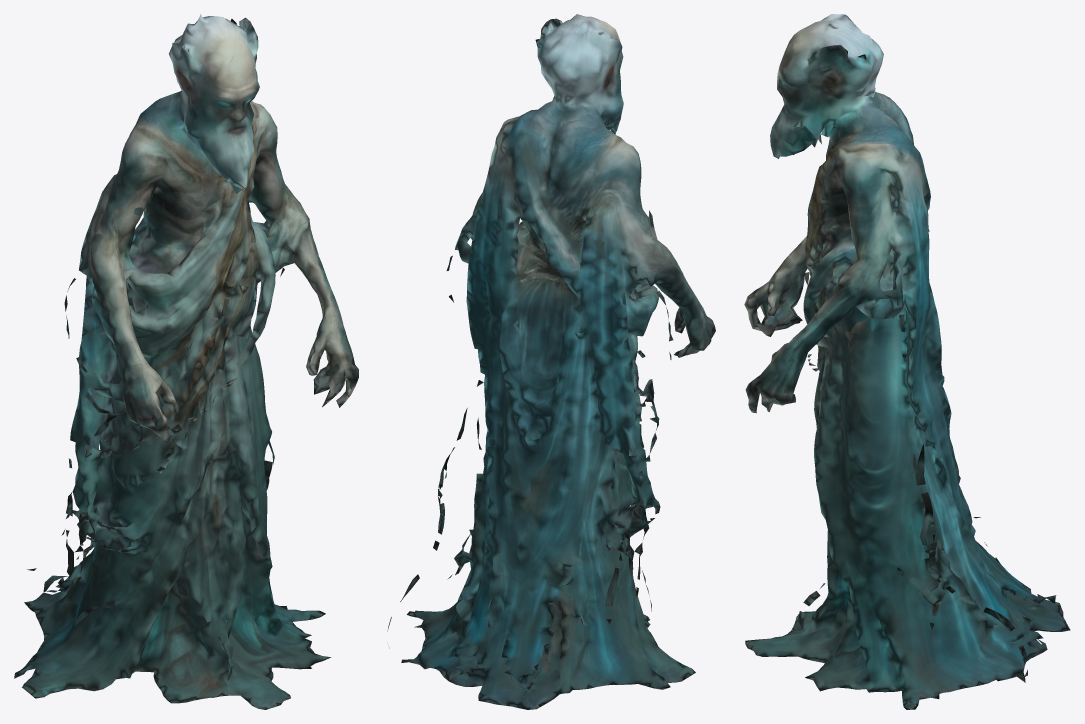
Rendered from Meshy_AI_Icebound_Sage_0424103827_texture.fbx.
The picture shows the model from 3 angles, left to right: view 1: azimuth 30°, elevation 25°; view 2: azimuth 150°, elevation 25°; view 3: azimuth 270°, elevation 25°; orthographic projection. The views are drawn at different scales.
Visible parts, largest first — view 1: Mesh_0; view 2: Mesh_0; view 3: Mesh_0.
Part boxes in pixels (x1=…): Mesh_0: x1=14, y1=14, x2=358, y2=709; Mesh_0: x1=387, y1=14, x2=715, y2=709; Mesh_0: x1=744, y1=14, x2=1070, y2=709.
Size of the model in its own units: 95.48 by 200 by 94.33.
Materials: 1 (1 with a texture image).
